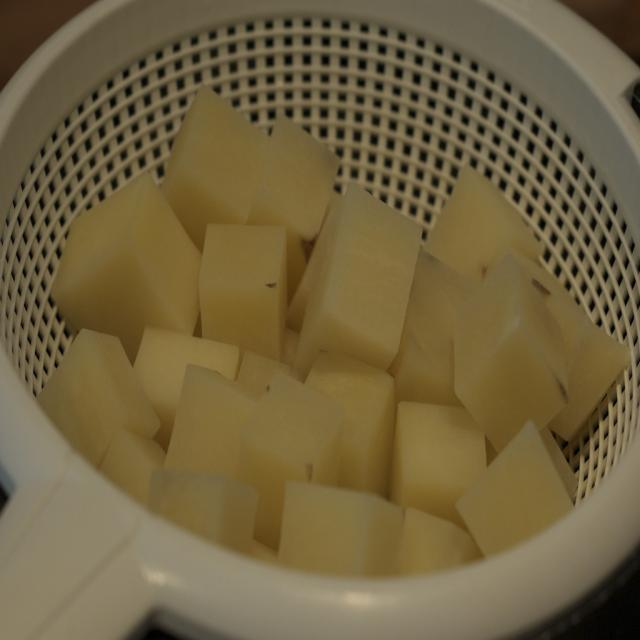Potato: (36, 83, 633, 577)
